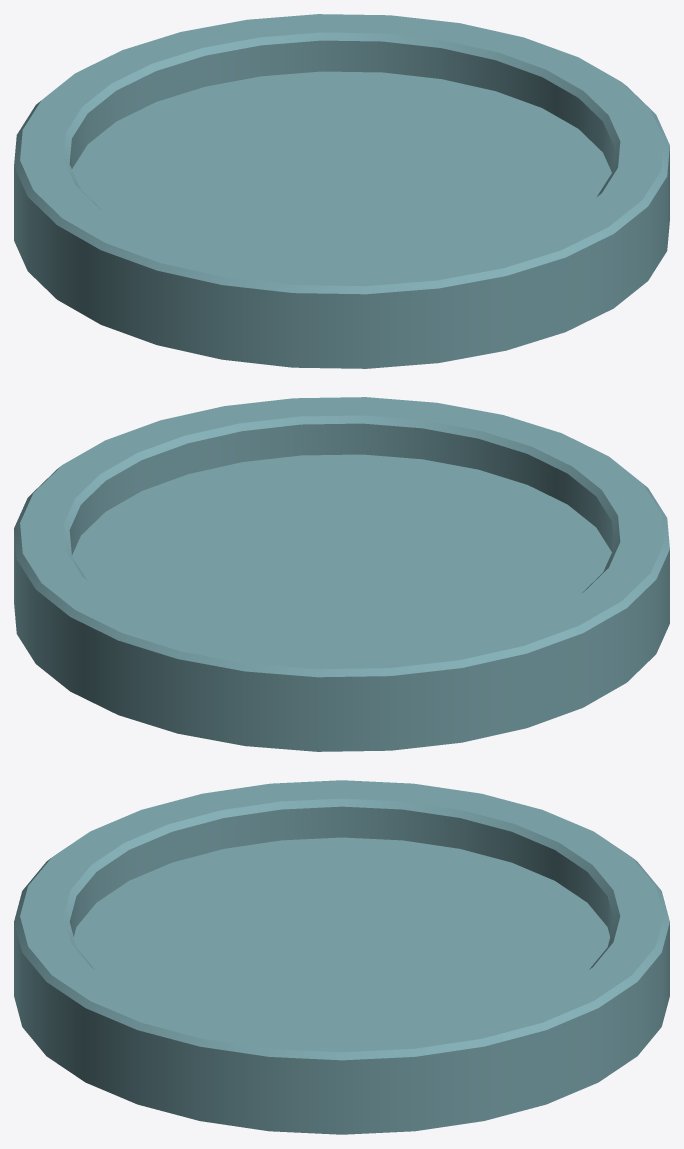
Rendered from table_button_place.fbx.
The picture shows the model from 3 angles, top to bottom: view 1: azimuth 30°, elevation 25°; view 2: azimuth 150°, elevation 25°; view 3: azimuth 270°, elevation 25°; orthographic projection.
Visible parts, largest first — view 1: table_button_place; view 2: table_button_place; view 3: table_button_place.
Boxes of the visible parts, x1,y1,x2,y2 form: table_button_place: [14, 14, 669, 368]; table_button_place: [14, 397, 669, 751]; table_button_place: [14, 780, 669, 1134].
Bounding box in the file's own units: 68.79 × 9.25 × 68.79.
